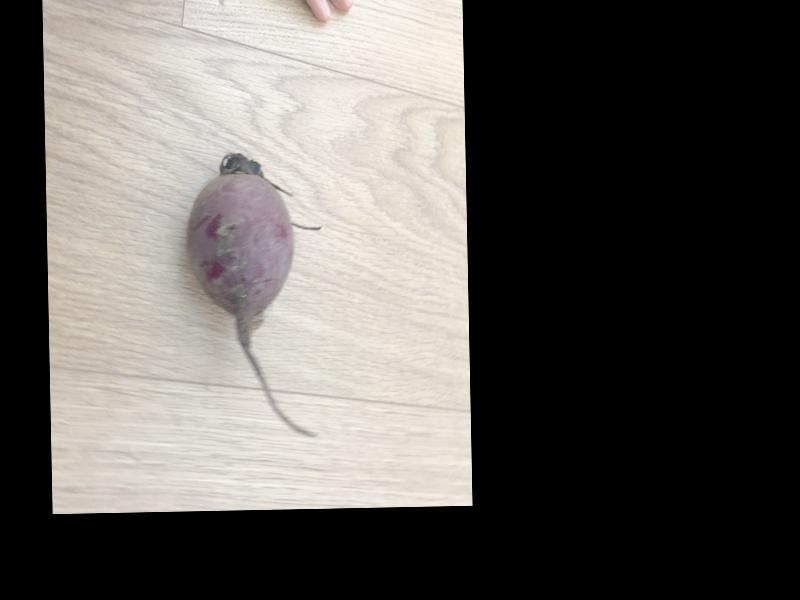Beet: (187, 152, 325, 440)
